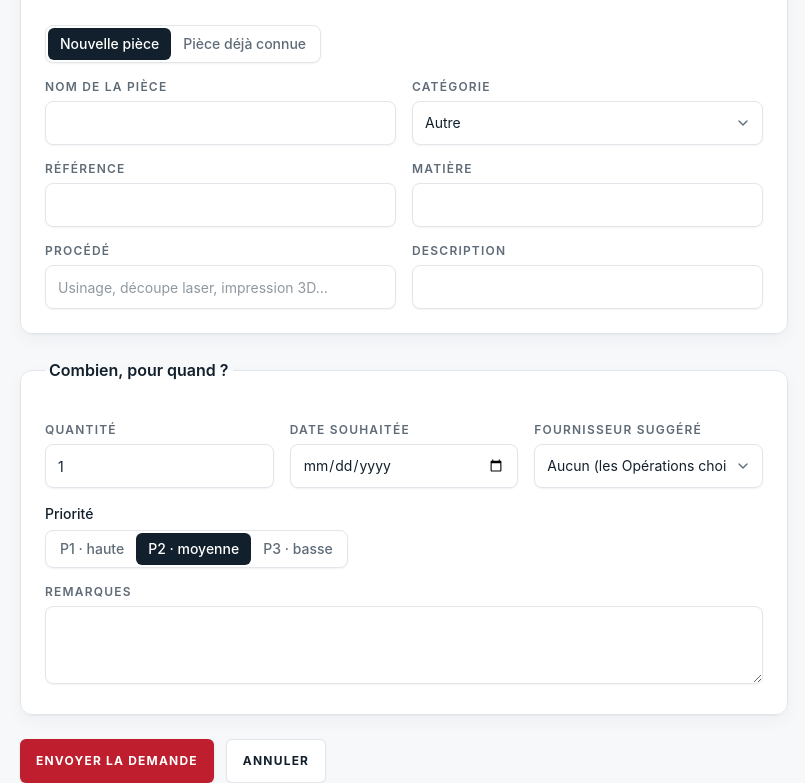
it: PurchaseForm › says what is missing before sending
(page scrolled)
Click the button "Envoyer la demande". click: (117, 761)
box: [20,739,214,782]
(page scrolled)
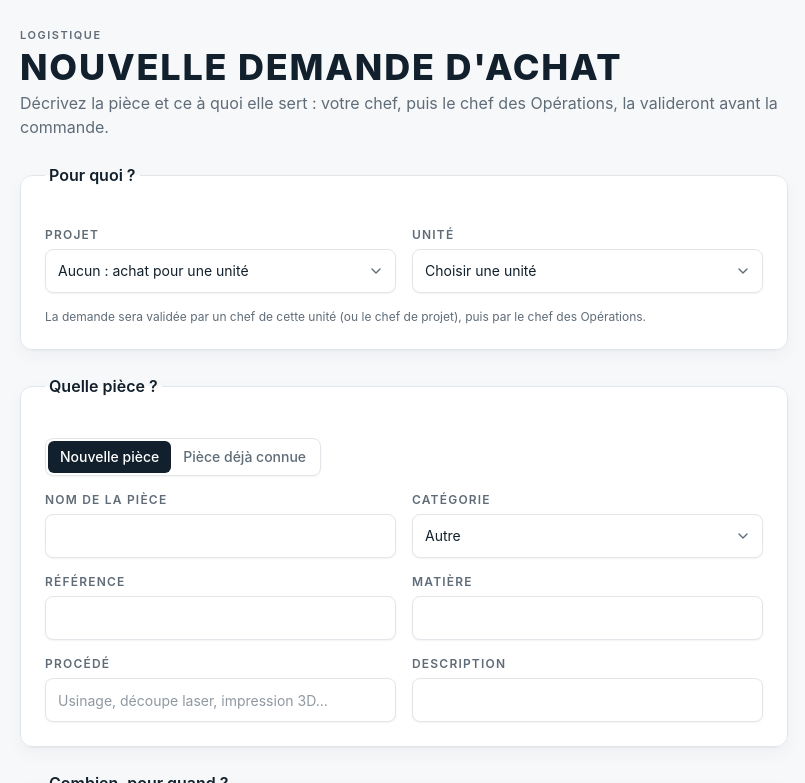
Select "Opérations & Partenariats" in the dropdown labelled "Unité". click: (588, 271)
box: [412,249,763,293]
(page scrolled)
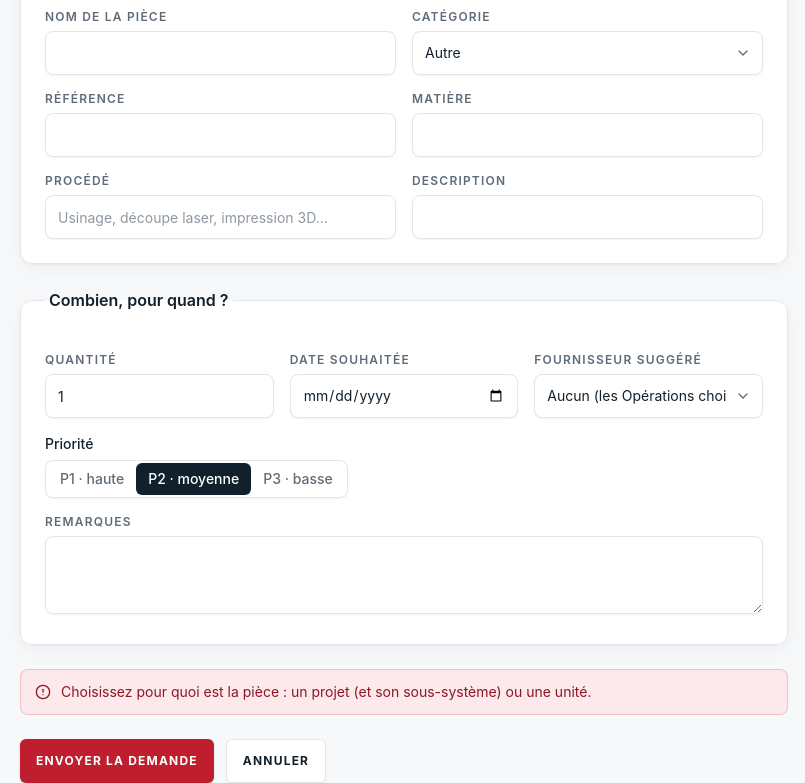
Click the button "Envoyer la demande". click: (117, 761)
box: [20,739,214,782]
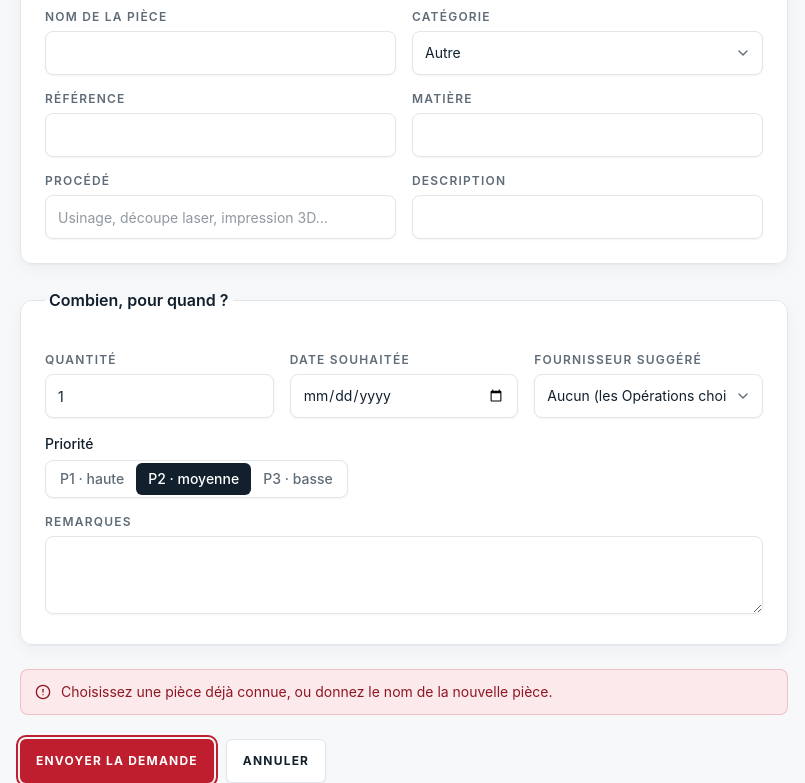
Expected: the message shows "donnez le nom de la nouvelle pièce", [61,683,552,700]
Type "Busbar" into the field labelled "Nom de la pièce". click: (220, 53)
box: [45,31,396,75]
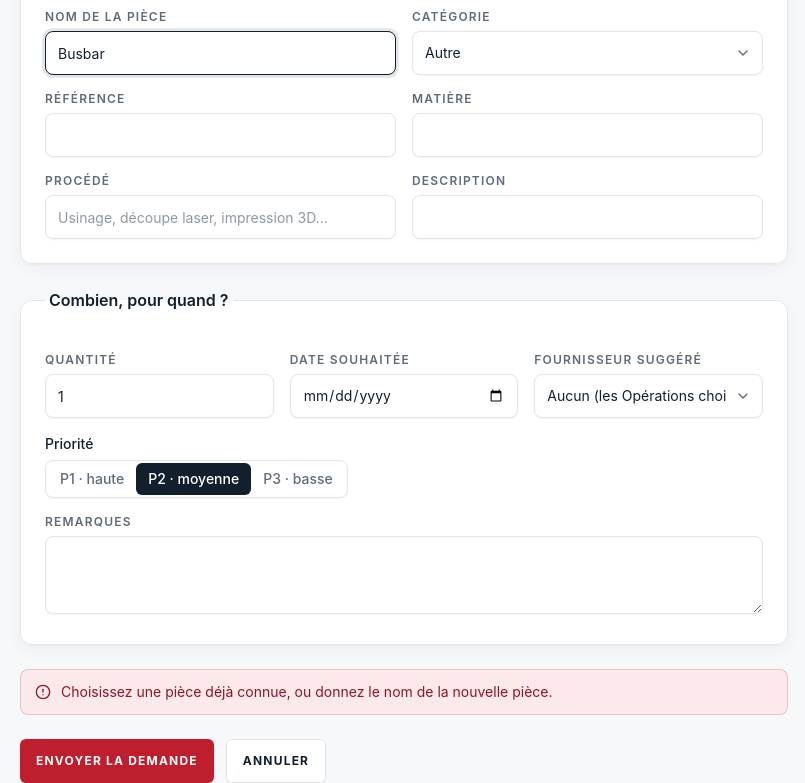
Replace the text in the number field labelled "Quantité" with "0". click: (159, 396)
box: [45,374,274,418]
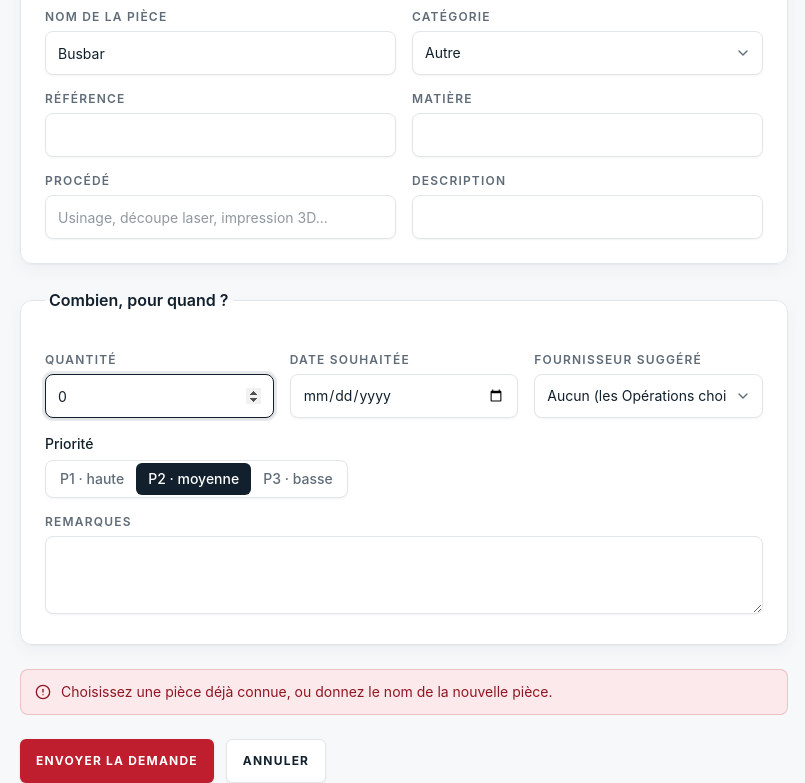
Click the button "Envoyer la demande". click: (117, 761)
box: [20,739,214,782]
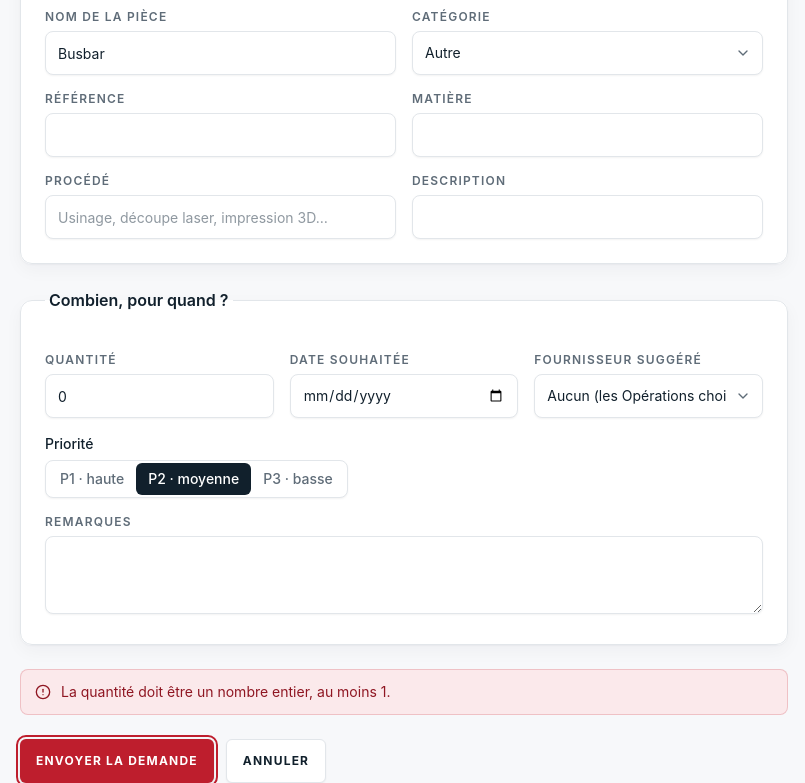
Expected: the message reads "La quantité doit être un nombre entier, au moins 1.", [61,683,390,700]
